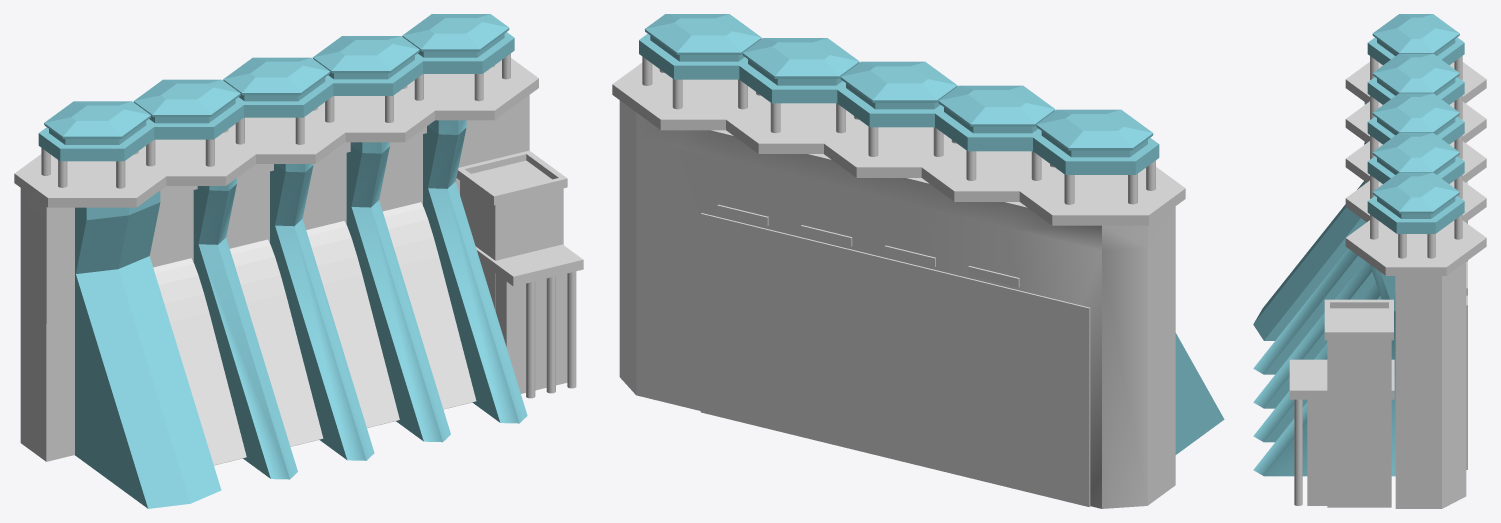
The model's file is Dam.fbx.
3 views of the same model, side by side, from view 1: azimuth 30°, elevation 25°; view 2: azimuth 150°, elevation 25°; view 3: azimuth 270°, elevation 25° (orthographic). The views are drawn at different scales.
Visible parts, largest first — view 1: mesh_node.001, Cylinder, Cylinder.002, mesh_node.003, Cube.002, Water_Bay_4, Water_Bay_3, Water_Bay_2, Water_Bay_1, Cube.006, Gate_1, Gate_3 (+5 smaller); view 2: mesh_node.004, mesh_node.003, Cylinder, Cylinder.002, mesh_node.001; view 3: Cylinder, mesh_node.003, mesh_node.001, Cube.002, Cylinder.002, Cube.006, Cylinder.033, mesh_node.004.
Part boxes in pixels (left/top/right/bottom): mesh_node.001: left=75, top=120, right=527, bottom=508; Cylinder: left=38, top=14, right=514, bottom=161; Cylinder.002: left=14, top=58, right=538, bottom=207; mesh_node.003: left=20, top=95, right=529, bottom=461; Cube.002: left=456, top=150, right=567, bottom=310; Water_Bay_4: left=383, top=202, right=476, bottom=409; Water_Bay_3: left=306, top=221, right=399, bottom=427; Water_Bay_2: left=230, top=239, right=323, bottom=446; Water_Bay_1: left=153, top=258, right=246, bottom=465; Cube.006: left=475, top=244, right=583, bottom=393; Gate_1: left=149, top=191, right=191, bottom=267; Gate_3: left=302, top=153, right=344, bottom=229; mesh_node.004: left=700, top=213, right=1090, bottom=506; mesh_node.003: left=619, top=100, right=1175, bottom=508; Cylinder: left=639, top=14, right=1159, bottom=174; Cylinder.002: left=612, top=63, right=1185, bottom=225; mesh_node.001: left=1175, top=333, right=1224, bottom=454; Cylinder: left=1367, top=14, right=1464, bottom=233; mesh_node.003: left=1395, top=103, right=1466, bottom=508; mesh_node.001: left=1253, top=102, right=1395, bottom=476; Cube.002: left=1324, top=299, right=1393, bottom=507; Cylinder.002: left=1345, top=62, right=1486, bottom=275; Cube.006: left=1289, top=359, right=1394, bottom=505; Cylinder.033: left=1294, top=399, right=1302, bottom=505; mesh_node.004: left=1466, top=261, right=1467, bottom=469.
Size of the model in its own units: 15.97 by 10.12 by 7.26.
